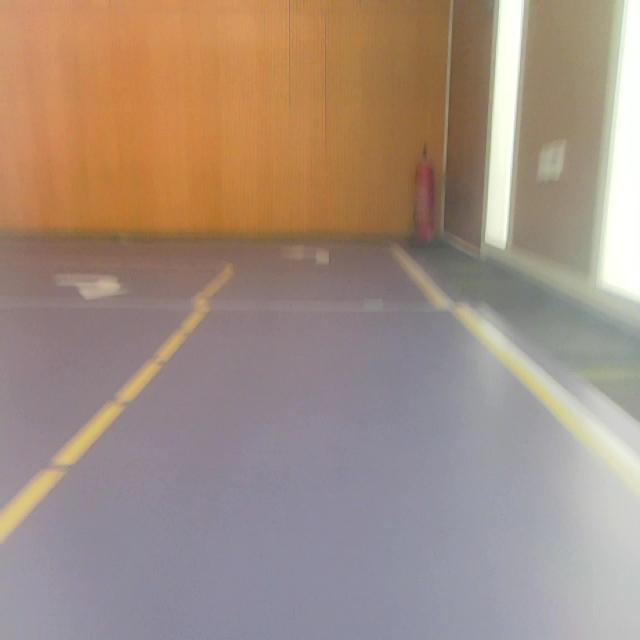left_lane: (2, 264, 235, 545)
right_lane: (395, 249, 640, 500)
